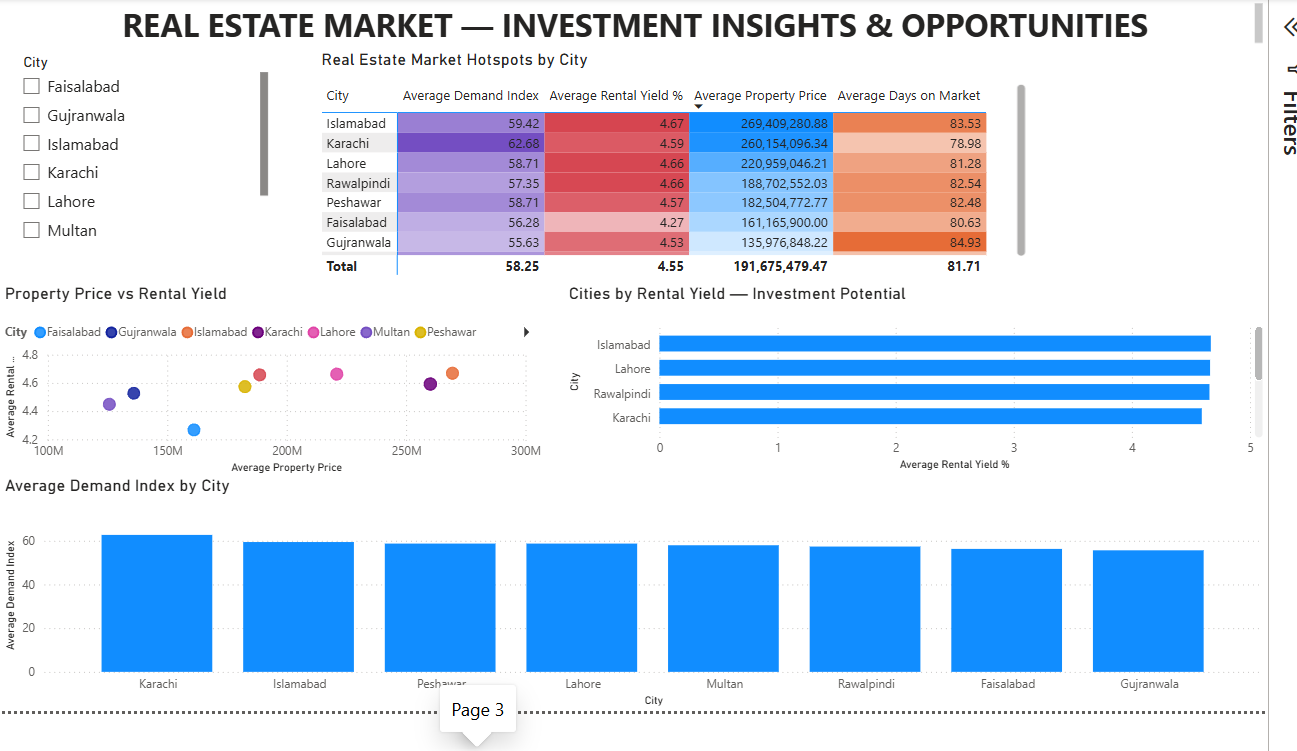

Layout of this report page (visuals, bound fields, positions):
{"tool":"powerbi","page":{"name":"Page 3","canvas":[1280,720],"ordinal":2},"visuals":[{"type":"pivotTable","title":"Real Estate Market Hotspots by City","fields":{"Rows":["RealEstateData.City"],"Values":["RealEstateData.Average Demand Index","RealEstateData.Average Rental Yield %","RealEstateData.Average Property Price","RealEstateData.Average Days on Market"]},"box":[319.5,51.5,720.8,233.2],"z":0},{"type":"clusteredColumnChart","fields":{"Y":["RealEstateData.Average Demand Index"],"Category":["RealEstateData.City"]},"box":[0,481.5,1279.5,237.7],"z":1},{"type":"textbox","box":[10.6,0,1268.9,51.5],"z":2},{"type":"scatterChart","title":"Property Price vs Rental Yield","fields":{"X":["RealEstateData.Average Property Price"],"Y":["RealEstateData.Average Rental Yield %"],"Series":["RealEstateData.City"],"Size":["RealEstateData.Average Demand Index"]},"box":[0,287.7,551.2,196.8],"z":3},{"type":"clusteredBarChart","title":"Cities by Rental Yield — Investment Potential","fields":{"Y":["RealEstateData.Average Rental Yield %"],"Category":["RealEstateData.City"]},"box":[569.3,287.7,710.2,193.8],"z":4},{"type":"slicer","fields":{"Values":["RealEstateData.City"]},"box":[10.6,51.5,265,198.4],"z":5}]}

Visuals, with their boxes on the page's 1280x720 design canvas (x1, y1, x2, y2). These are canvas units, not pixel positions in the 1297x751 screenshot, which may show the page scaled, cropped or inside an application window:
"Real Estate Market Hotspots by City" pivotTable: (x1=320, y1=52, x2=1040, y2=285)
clusteredColumnChart - RealEstateData.Average Demand Index x RealEstateData.City: (x1=0, y1=482, x2=1280, y2=719)
textbox: (x1=11, y1=0, x2=1280, y2=52)
"Property Price vs Rental Yield" scatterChart: (x1=0, y1=288, x2=551, y2=484)
"Cities by Rental Yield — Investment Potential" clusteredBarChart: (x1=569, y1=288, x2=1280, y2=482)
slicer - RealEstateData.City: (x1=11, y1=52, x2=276, y2=250)
